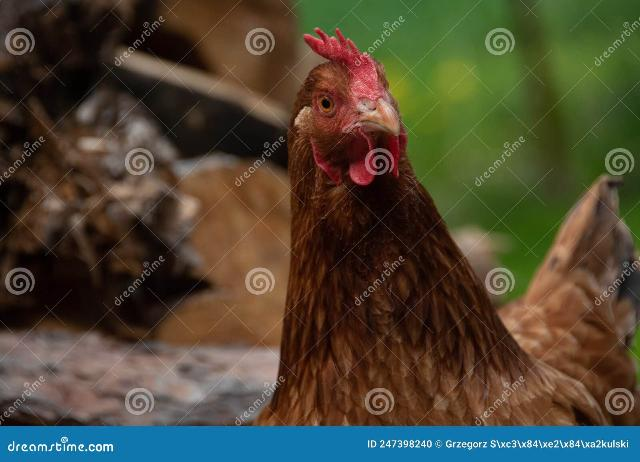Chicken: (260, 26, 640, 428)
